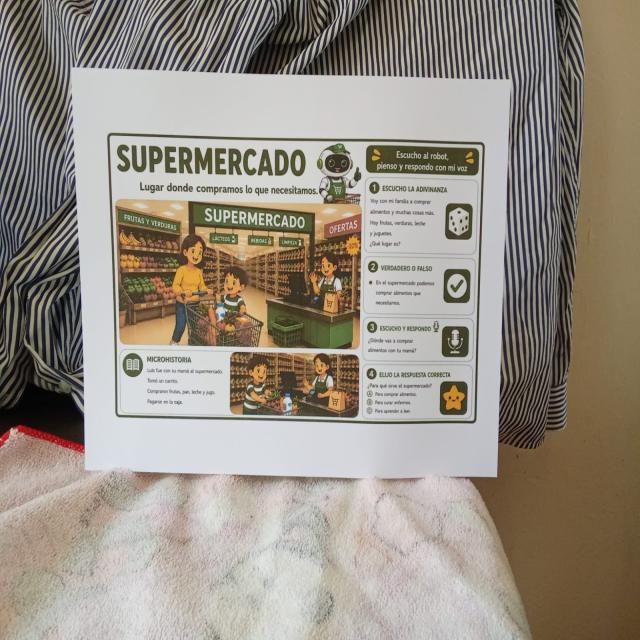supermercado: (102, 125, 490, 431)
